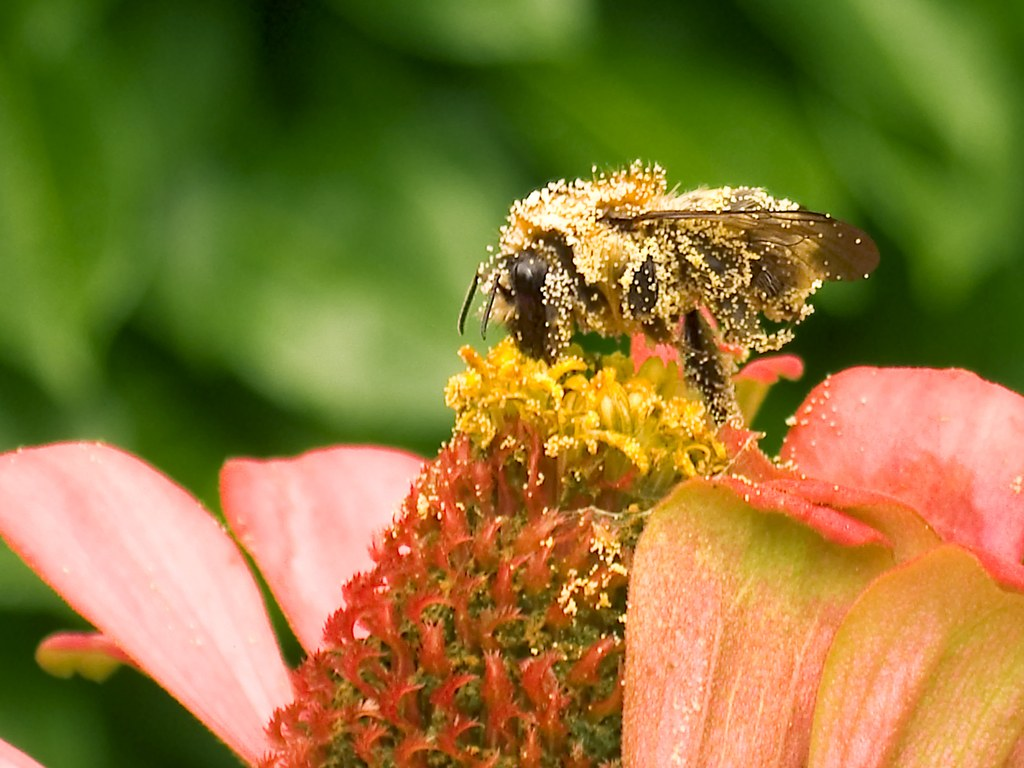bee: (424, 156, 899, 448)
insect: (0, 328, 1023, 767)
